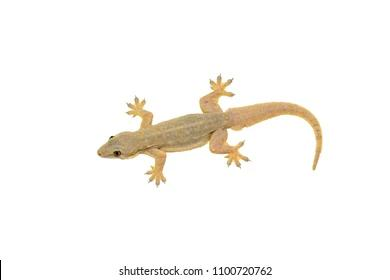lizard: (95, 71, 323, 188)
